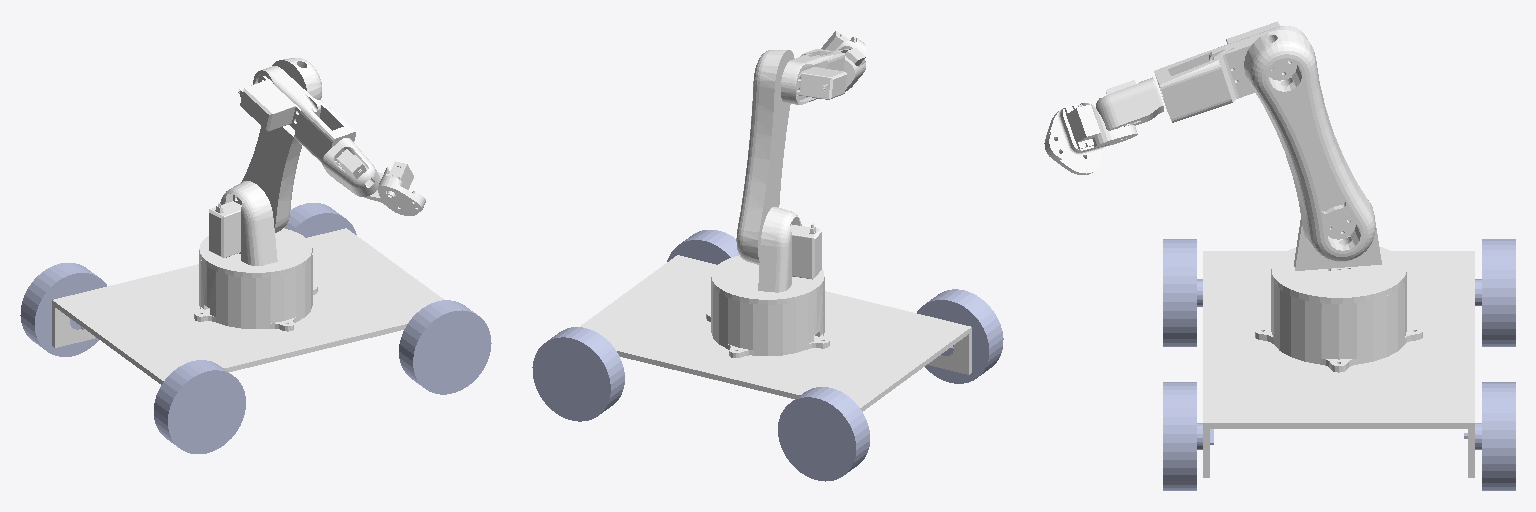
URDF robot description (arm):
<?xml version="1.0" encoding="utf-8"?>
<!-- This URDF was automatically created by SolidWorks to URDF Exporter! Originally created by Stephen Brawner (brawner@gmail.com) 
     Commit Version: 1.6.0-4-g7f85cfe  Build Version: 1.6.7995.38578
     For more information, please see http://wiki.ros.org/sw_urdf_exporter -->
<robot
  name="arm">
  <link
    name="base_link">
    <inertial>
      <origin
        xyz="0.00019243 3.3007E-11 0.0060752"
        rpy="0 0 0" />
      <mass
        value="0.43438" />
      <inertia
        ixx="0.001538"
        ixy="1.8832E-13"
        ixz="-3.1375E-06"
        iyy="0.003042"
        iyz="-5.0193E-14"
        izz="0.0043855" />
    </inertial>
    <visual>
      <origin
        xyz="0 0 0"
        rpy="0 0 0" />
      <geometry>
        <mesh
          filename="package://botarm/meshes/base_link.STL" />
      </geometry>
      <material
        name="">
        <color
          rgba="1 1 1 1" />
      </material>
    </visual>
    <collision>
      <origin
        xyz="0 0 0"
        rpy="0 0 0" />
      <geometry>
        <mesh
          filename="package://botarm/meshes/base_link.STL" />
      </geometry>
    </collision>
  </link>
  <link
    name="wheel1">
    <inertial>
      <origin
        xyz="0 -5.5511E-17 -0.012949"
        rpy="0 0 0" />
      <mass
        value="0.12893" />
      <inertia
        ixx="5.7923E-05"
        ixy="1.797E-09"
        ixz="1.6941E-21"
        iyy="5.7925E-05"
        iyz="-6.3788E-21"
        izz="0.00010069" />
    </inertial>
    <visual>
      <origin
        xyz="0 0 0"
        rpy="0 0 0" />
      <geometry>
        <mesh
          filename="package://botarm/meshes/wheel1.STL" />
      </geometry>
      <material
        name="">
        <color
          rgba="0.79216 0.81961 0.93333 1" />
      </material>
    </visual>
    <collision>
      <origin
        xyz="0 0 0"
        rpy="0 0 0" />
      <geometry>
        <mesh
          filename="package://botarm/meshes/wheel1.STL" />
      </geometry>
    </collision>
  </link>
  <joint
    name="wheel1_joint"
    type="continuous">
    <origin
      xyz="0.125 0.13 -0.0175"
      rpy="-1.5708 0 0" />
    <parent
      link="base_link" />
    <child
      link="wheel1" />
    <axis
      xyz="0 0 1" />
    <limit
      effort="50"
      velocity="50" />
    <dynamics
      damping="0.2"
      friction="0.25" />
  </joint>
  <link
    name="wheel2">
    <inertial>
      <origin
        xyz="0 0 -0.012949"
        rpy="0 0 0" />
      <mass
        value="0.12893" />
      <inertia
        ixx="5.7926E-05"
        ixy="-1.0839E-09"
        ixz="-1.0164E-20"
        iyy="5.7922E-05"
        iyz="6.9964E-21"
        izz="0.00010069" />
    </inertial>
    <visual>
      <origin
        xyz="0 0 0"
        rpy="0 0 0" />
      <geometry>
        <mesh
          filename="package://botarm/meshes/wheel2.STL" />
      </geometry>
      <material
        name="">
        <color
          rgba="0.79216 0.81961 0.93333 1" />
      </material>
    </visual>
    <collision>
      <origin
        xyz="0 0 0"
        rpy="0 0 0" />
      <geometry>
        <mesh
          filename="package://botarm/meshes/wheel2.STL" />
      </geometry>
    </collision>
  </link>
  <joint
    name="wheel2_joint"
    type="continuous">
    <origin
      xyz="-0.125 0.13 -0.0175"
      rpy="-1.5708 0 0" />
    <parent
      link="base_link" />
    <child
      link="wheel2" />
    <axis
      xyz="0 0 1" />
    <limit
      effort="50"
      velocity="50" />
    <dynamics
      damping="0.2"
      friction="0.25" />
  </joint>
  <link
    name="wheel3">
    <inertial>
      <origin
        xyz="2.2204E-16 -5.5511E-17 0.012949"
        rpy="0 0 0" />
      <mass
        value="0.12893" />
      <inertia
        ixx="5.7922E-05"
        ixy="-7.1036E-10"
        ixz="1.5247E-20"
        iyy="5.7926E-05"
        iyz="-3.2219E-21"
        izz="0.00010069" />
    </inertial>
    <visual>
      <origin
        xyz="0 0 0"
        rpy="0 0 0" />
      <geometry>
        <mesh
          filename="package://botarm/meshes/wheel3.STL" />
      </geometry>
      <material
        name="">
        <color
          rgba="0.79216 0.81961 0.93333 1" />
      </material>
    </visual>
    <collision>
      <origin
        xyz="0 0 0"
        rpy="0 0 0" />
      <geometry>
        <mesh
          filename="package://botarm/meshes/wheel3.STL" />
      </geometry>
    </collision>
  </link>
  <joint
    name="wheel3_joint"
    type="continuous">
    <origin
      xyz="0.125 -0.13 -0.0175"
      rpy="-1.5708 0 0" />
    <parent
      link="base_link" />
    <child
      link="wheel3" />
    <axis
      xyz="0 0 -1" />
    <limit
      effort="50"
      velocity="50" />
    <dynamics
      damping="0.2"
      friction="0.25" />
  </joint>
  <link
    name="wheel4">
    <inertial>
      <origin
        xyz="2.2204E-16 0 0.012949"
        rpy="0 0 0" />
      <mass
        value="0.12893" />
      <inertia
        ixx="5.7922E-05"
        ixy="-2.6154E-10"
        ixz="1.3553E-20"
        iyy="5.7926E-05"
        iyz="-3.2338E-21"
        izz="0.00010069" />
    </inertial>
    <visual>
      <origin
        xyz="0 0 0"
        rpy="0 0 0" />
      <geometry>
        <mesh
          filename="package://botarm/meshes/wheel4.STL" />
      </geometry>
      <material
        name="">
        <color
          rgba="0.79216 0.81961 0.93333 1" />
      </material>
    </visual>
    <collision>
      <origin
        xyz="0 0 0"
        rpy="0 0 0" />
      <geometry>
        <mesh
          filename="package://botarm/meshes/wheel4.STL" />
      </geometry>
    </collision>
  </link>
  <joint
    name="wheel4_joint"
    type="continuous">
    <origin
      xyz="-0.125 -0.13 -0.0175"
      rpy="-1.5708 0 0" />
    <parent
      link="base_link" />
    <child
      link="wheel4" />
    <axis
      xyz="0 0 -1" />
    <limit
      effort="50"
      velocity="50" />
    <dynamics
      damping="0.2"
      friction="0.25" />
  </joint>
  <link
    name="rotating_base">
    <inertial>
      <origin
        xyz="-0.013969 -0.0025099 0.022052"
        rpy="0 0 0" />
      <mass
        value="0.14233" />
      <inertia
        ixx="8.7679E-05"
        ixy="9.0601E-07"
        ixz="7.5871E-06"
        iyy="8.2798E-05"
        iyz="1.3633E-06"
        izz="8.0876E-05" />
    </inertial>
    <visual>
      <origin
        xyz="0 0 0"
        rpy="0 0 0" />
      <geometry>
        <mesh
          filename="package://botarm/meshes/rotating_base.STL" />
      </geometry>
      <material
        name="">
        <color
          rgba="1 1 1 1" />
      </material>
    </visual>
    <collision>
      <origin
        xyz="0 0 0"
        rpy="0 0 0" />
      <geometry>
        <mesh
          filename="package://botarm/meshes/rotating_base.STL" />
      </geometry>
    </collision>
  </link>
  <joint
    name="rotating_base_joint"
    type="revolute">
    <origin
      xyz="0 0 0.0575"
      rpy="0 0 0" />
    <parent
      link="base_link" />
    <child
      link="rotating_base" />
    <axis
      xyz="0 0 1" />
    <limit
      lower="-3.14"
      upper="3.14"
      effort="0"
      velocity="20" />
  </joint>
  <link
    name="link1">
    <inertial>
      <origin
        xyz="0.0699998879741024 -0.00631835962652538 -3.70071256972082E-08"
        rpy="0 0 0" />
      <mass
        value="0.14095311416068" />
      <inertia
        ixx="3.1462032524667E-05"
        ixy="-3.40431825537412E-11"
        ixz="-5.98694462705478E-11"
        iyy="0.000440417713670742"
        iyz="1.86188731668641E-11"
        izz="0.000421295262324613" />
    </inertial>
    <visual>
      <origin
        xyz="0 0 0"
        rpy="0 0 0" />
      <geometry>
        <mesh
          filename="package://botarm/meshes/link1.STL" />
      </geometry>
      <material
        name="">
        <color
          rgba="1 1 1 1" />
      </material>
    </visual>
    <collision>
      <origin
        xyz="0 0 0"
        rpy="0 0 0" />
      <geometry>
        <mesh
          filename="package://botarm/meshes/link1.STL" />
      </geometry>
    </collision>
  </link>
  <joint
    name="link1_joint"
    type="revolute">
    <origin
      xyz="0.0039863 0.00043279 0.040958"
      rpy="3.1416 -1.2509 -1.393" />
    <parent
      link="rotating_base" />
    <child
      link="link1" />
    <axis
      xyz="0 -1 0" />
    <limit
      lower="-3.14"
      upper="3.14"
      effort="0"
      velocity="20" />
  </joint>
  <link
    name="link2">
    <inertial>
      <origin
        xyz="0.025044 0.023207 1.5379E-05"
        rpy="0 0 0" />
      <mass
        value="0.098855" />
      <inertia
        ixx="1.7663E-05"
        ixy="-7.0159E-09"
        ixz="-7.106E-08"
        iyy="6.4781E-05"
        iyz="1.8891E-10"
        izz="6.6788E-05" />
    </inertial>
    <visual>
      <origin
        xyz="0 0 0"
        rpy="0 0 0" />
      <geometry>
        <mesh
          filename="package://botarm/meshes/link2.STL" />
      </geometry>
      <material
        name="">
        <color
          rgba="1 1 1 1" />
      </material>
    </visual>
    <collision>
      <origin
        xyz="0 0 0"
        rpy="0 0 0" />
      <geometry>
        <mesh
          filename="package://botarm/meshes/link2.STL" />
      </geometry>
    </collision>
  </link>
  <joint
    name="link2_joint"
    type="revolute">
    <origin
      xyz="0.14 0 0"
      rpy="0 -1.5388 0" />
    <parent
      link="link1" />
    <child
      link="link2" />
    <axis
      xyz="0 1 0" />
    <limit
      lower="-3.14"
      upper="3.14"
      effort="0"
      velocity="15" />
  </joint>
  <link
    name="link3">
    <inertial>
      <origin
        xyz="0.0088938 0.0018866 0.022672"
        rpy="0 0 0" />
      <mass
        value="0.029888" />
      <inertia
        ixx="6.0892E-06"
        ixy="2.0842E-08"
        ixz="-2.2477E-08"
        iyy="6.7402E-06"
        iyz="-4.4192E-07"
        izz="3.5974E-06" />
    </inertial>
    <visual>
      <origin
        xyz="0 0 0"
        rpy="0 0 0" />
      <geometry>
        <mesh
          filename="package://botarm/meshes/link3.STL" />
      </geometry>
      <material
        name="">
        <color
          rgba="1 1 1 1" />
      </material>
    </visual>
    <collision>
      <origin
        xyz="0 0 0"
        rpy="0 0 0" />
      <geometry>
        <mesh
          filename="package://botarm/meshes/link3.STL" />
      </geometry>
    </collision>
  </link>
<joint name="link3_joint" type="revolute">
  <origin xyz="0.090155 0.014424 -0.0052884"
          rpy="1.5708 -0.63394 1.5708"/>
  <parent link="link2"/>
  <child link="link3"/>
  <axis xyz="0 1 0"/>
  <limit lower="-1.57" upper="1.57" effort="10" velocity="15"/>
</joint>
  <link
    name="link4">
    <inertial>
      <origin
        xyz="0.0016482 -0.034386 -0.0024567"
        rpy="0 0 0" />
      <mass
        value="0.024884" />
      <inertia
        ixx="6.911E-06"
        ixy="8.4747E-07"
        ixz="5.6339E-08"
        iyy="3.527E-06"
        iyz="-5.5705E-07"
        izz="5.5539E-06" />
    </inertial>
    <visual>
      <origin
        xyz="0 0 0"
        rpy="0 0 0" />
      <geometry>
        <mesh
          filename="package://botarm/meshes/link4.STL" />
      </geometry>
      <material
        name="">
        <color
          rgba="1 1 1 1" />
      </material>
    </visual>
    <collision>
      <origin
        xyz="0 0 0"
        rpy="0 0 0" />
      <geometry>
        <mesh
          filename="package://botarm/meshes/link4.STL" />
      </geometry>
    </collision>
  </link>
  <joint name="link4_joint" type="revolute">
  <origin xyz="0.0094812 0.013878 0.030746"
          rpy="-1.5708 -0.46266 -0.035421"/>
  <parent link="link3"/>
  <child link="link4"/>
  <axis xyz="1 0 0"/>
  <limit lower="-1.57" upper="1.57" effort="10" velocity="10"/>
</joint>
  <link
    name="link5">
    <inertial>
      <origin
        xyz="0.0024149 0.0035268 -0.00083621"
        rpy="0 0 0" />
      <mass
        value="0.00022979" />
      <inertia
        ixx="5.2638E-09"
        ixy="-2.7534E-09"
        ixz="4.1376E-10"
        iyy="3.1279E-09"
        iyz="6.0427E-10"
        izz="7.5416E-09" />
    </inertial>
    <visual>
      <origin
        xyz="0 0 0"
        rpy="0 0 0" />
      <geometry>
        <mesh
          filename="package://botarm/meshes/link5.STL" />
      </geometry>
      <material
        name="">
        <color
          rgba="1 1 1 1" />
      </material>
    </visual>
    <collision>
      <origin
        xyz="0 0 0"
        rpy="0 0 0" />
      <geometry>
        <mesh
          filename="package://botarm/meshes/link5.STL" />
      </geometry>
    </collision>
  </link>
  <joint name="link5_joint" type="revolute">
  <origin xyz="0.01254 -0.03831 -0.013494"
          rpy="3.1416 -1.5708 0"/>
  <parent link="link4"/>
  <child link="link5"/>
  <axis xyz="0 0 1"/>
  <limit lower="-1.57" upper="1.57" effort="10" velocity="10"/>
</joint>
</robot>

--- Render facts (derived) ---
Views: 3 orthographic renders of the robot side by side, from view 1: azimuth 30°, elevation 25°; view 2: azimuth 150°, elevation 25°; view 3: azimuth 270°, elevation 25°.
Model arm with 11 links and 10 joints (6 revolute, 4 continuous), rooted at base_link, posed every joint at zero.
Links seen in each view (by area): view 1: base_link, rotating_base, wheel3, wheel4, link2, link1, wheel2, link3, link4, wheel1; view 2: base_link, rotating_base, link1, wheel1, wheel2, wheel4, link2, wheel3, link3, link4; view 3: base_link, link1, rotating_base, link2, wheel3, wheel1, wheel2, wheel4, link4, link3.
Boxes of the visible links, x1,y1,x2,y2 form: base_link: (52, 228, 443, 384); rotating_base: (199, 181, 312, 277); wheel3: (399, 300, 491, 394); wheel4: (154, 360, 245, 453); link2: (238, 66, 355, 162); link1: (241, 58, 321, 232); wheel2: (20, 263, 106, 356); link3: (322, 138, 380, 196); link4: (364, 161, 425, 215); wheel1: (284, 203, 356, 237); base_link: (580, 255, 971, 411); rotating_base: (711, 207, 824, 304); link1: (736, 50, 794, 264); wheel1: (532, 327, 624, 421); wheel2: (778, 387, 869, 481); wheel4: (917, 289, 1003, 383); link2: (781, 49, 846, 104); wheel3: (667, 230, 738, 264); link3: (836, 48, 865, 91); link4: (821, 31, 865, 53); base_link: (1203, 251, 1474, 477); link1: (1244, 30, 1375, 261); rotating_base: (1271, 200, 1406, 303); link2: (1154, 21, 1307, 122); wheel3: (1163, 382, 1213, 490); wheel1: (1464, 382, 1515, 490); wheel2: (1475, 239, 1515, 346); wheel4: (1163, 239, 1202, 346); link4: (1044, 103, 1137, 174); link3: (1096, 77, 1163, 130).
Size in the robot's own frame: 0.33 by 0.3471 by 0.3158 metres.
11 mesh visuals loaded from 11 distinct referenced files (11 binary STL).
